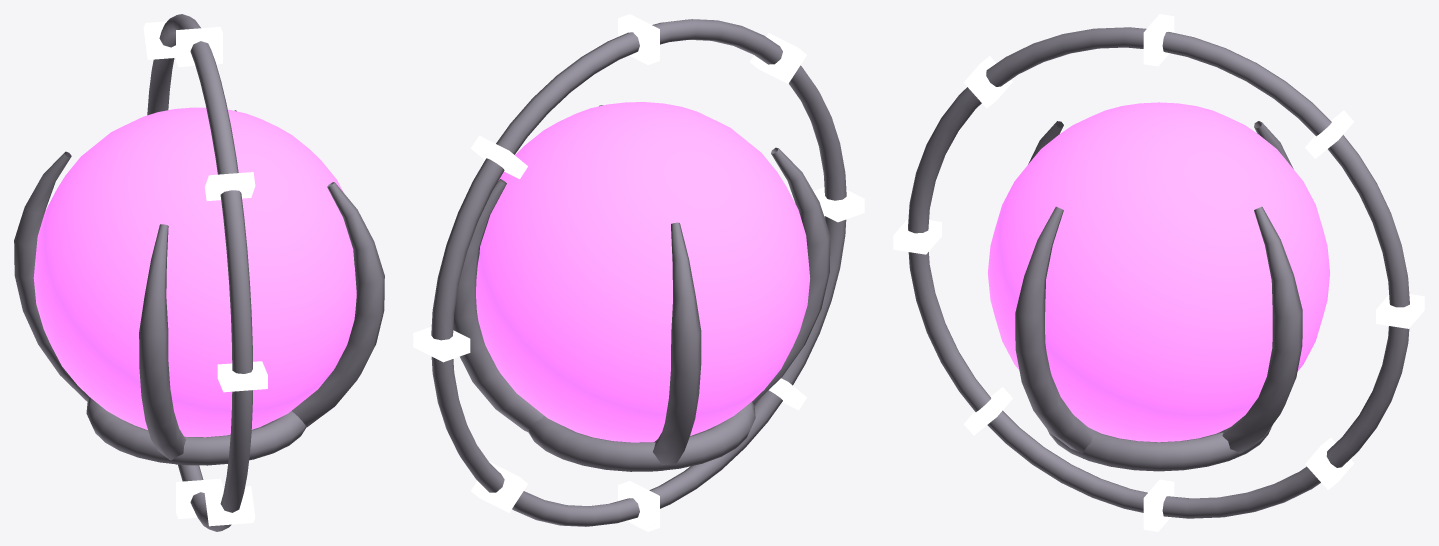
Rendered from VESPERA_orb.fbx.
The picture shows the model from 3 angles, left to right: view 1: azimuth 30°, elevation 25°; view 2: azimuth 150°, elevation 25°; view 3: azimuth 270°, elevation 25°; orthographic projection. The views are drawn at different scales.
Visible parts, largest first — view 1: VESPERA_orb; view 2: VESPERA_orb; view 3: VESPERA_orb.
Part boxes in pixels (x1,y1,x2,y2): VESPERA_orb: [14, 14, 384, 531]; VESPERA_orb: [413, 14, 864, 531]; VESPERA_orb: [893, 14, 1424, 531].
Size of the model in its own units: 0.1 by 0.1602 by 0.1552.
